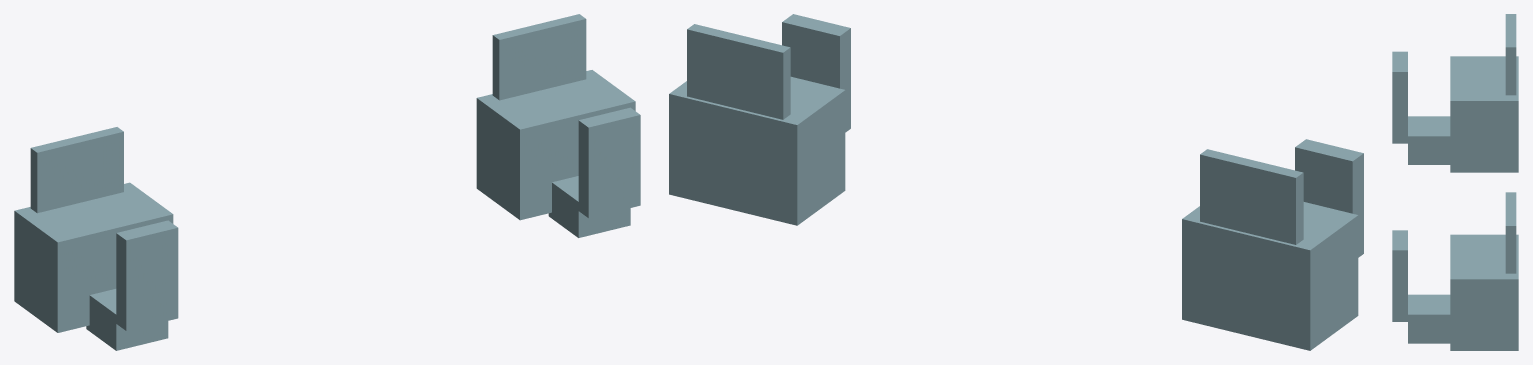
The model's file is SM_Int_CommandBridge_Stations.fbx.
The picture shows the model from 3 angles, left to right: view 1: azimuth 30°, elevation 25°; view 2: azimuth 150°, elevation 25°; view 3: azimuth 270°, elevation 25°; orthographic projection. The views are drawn at different scales.
Visible parts, largest first — view 1: SM_Int_CommandBridge_Stations; view 2: SM_Int_CommandBridge_Stations; view 3: SM_Int_CommandBridge_Stations.
Boxes of the visible parts, <box> form: SM_Int_CommandBridge_Stations: <box>14,14,640,350</box>; SM_Int_CommandBridge_Stations: <box>669,14,1363,350</box>; SM_Int_CommandBridge_Stations: <box>1392,14,1518,350</box>.
Bounding box in the file's own units: 200 × 48 × 52.
